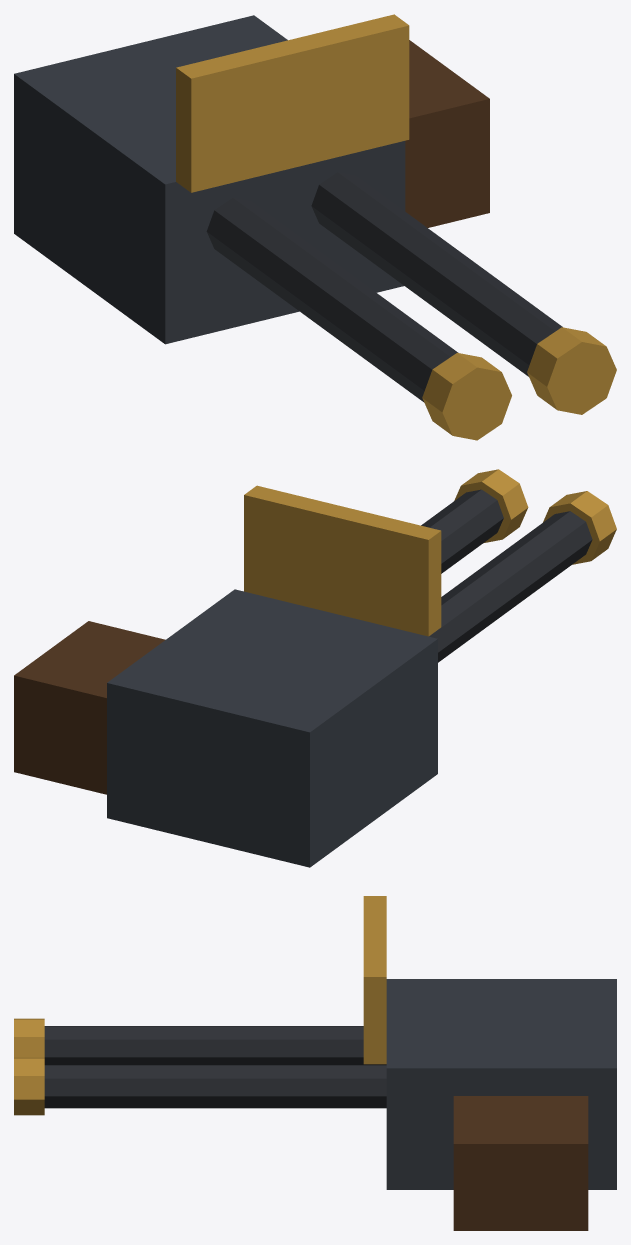
Rendered from GunHead.obj.
3 views of the same model, one above another, from view 1: azimuth 30°, elevation 25°; view 2: azimuth 150°, elevation 25°; view 3: azimuth 270°, elevation 25° (orthographic). The views are drawn at different scales.
Parts seen in each view (by area): view 1: GunHead; view 2: GunHead; view 3: GunHead.
Boxes of the visible parts, x1,y1,x2,y2 form: GunHead: (14,14,616,440); GunHead: (14,469,616,867); GunHead: (14,896,616,1230).
Bounding box in the file's own units: 0.845 × 0.6 × 1.57.
